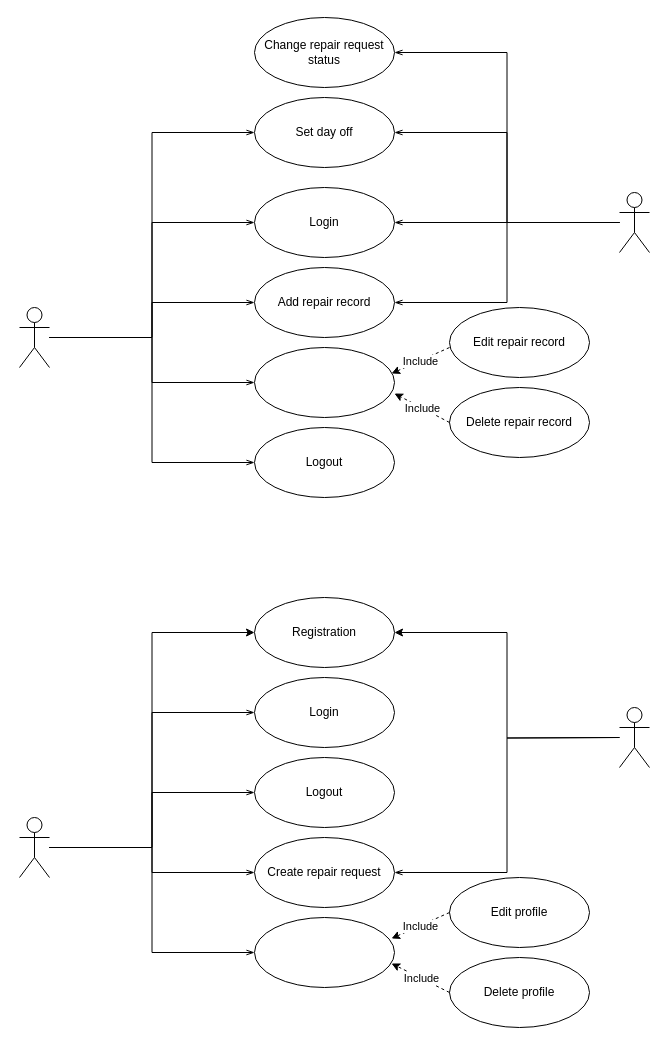
This 670x1045 diagram has some shape labels left out. Each missing label, with the centre of its shape:
"Admin" goes at pixel 34 337.
"Guest" goes at pixel 634 737.
"Manage profile" goes at pixel 324 952.
"Manage repair record" goes at pixel 324 382.
"Master" goes at pixel 634 222.
"User" goes at pixel 34 847.
